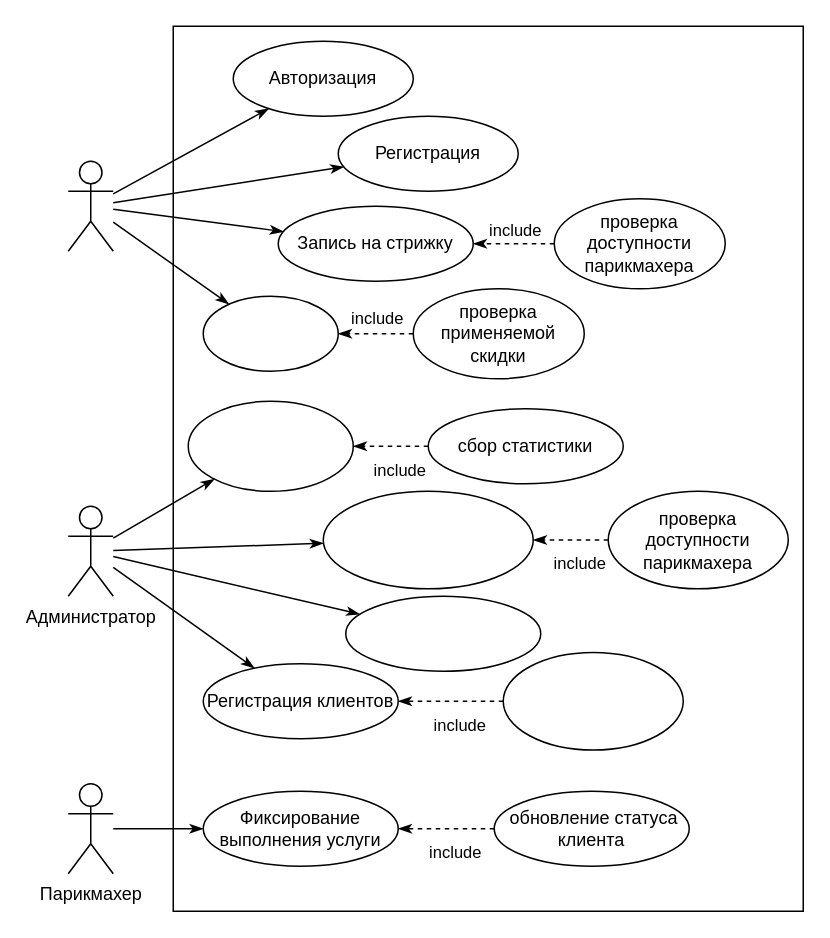
Some shapes in this 830 by 938 pixel diagram are drawn without their labels. The box of each missing label's shape, as (x1, y1, x2, y2) in pixels:
Клиент: (67, 160, 113, 251)
Оплата услуги: (202, 295, 338, 371)
Применение скидки: (344, 595, 541, 671)
проверка существования клиента: (502, 651, 683, 750)
Управление записями на стрижку: (322, 490, 533, 589)
Формирование отчётов: (187, 400, 353, 491)
